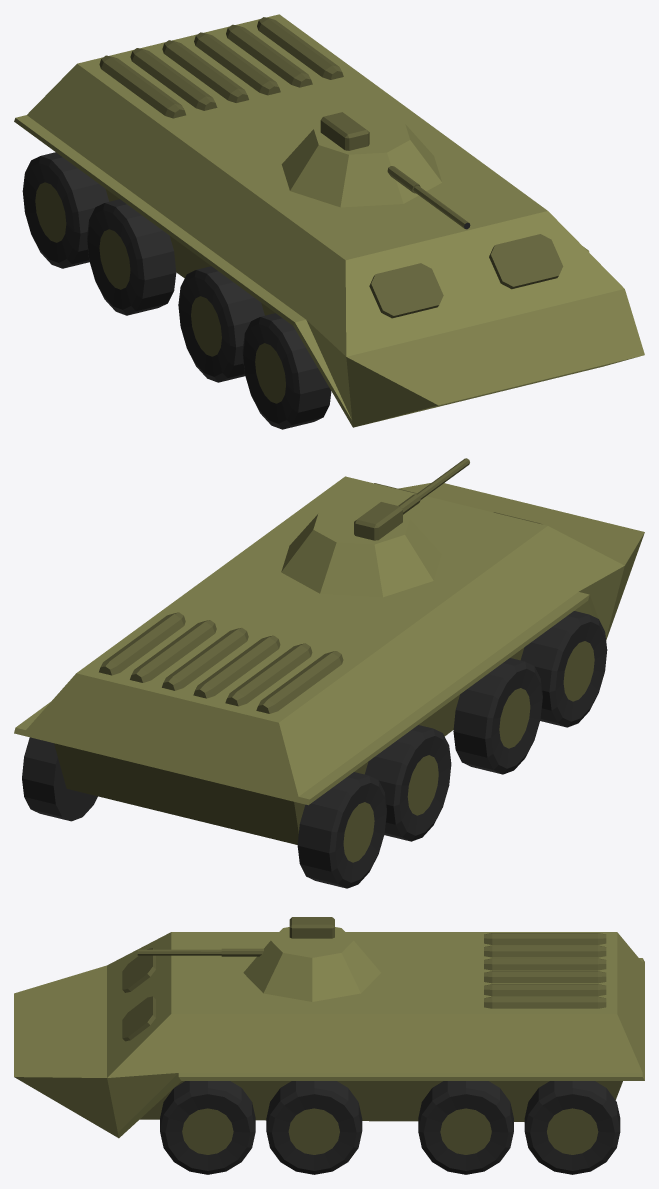
The model's file is IFV_Wheels_01.fbx.
3 views of the same model, one above another, from view 1: azimuth 30°, elevation 25°; view 2: azimuth 150°, elevation 25°; view 3: azimuth 270°, elevation 25° (orthographic). The views are drawn at different scales.
Parts seen in each view (by area): view 1: IFV_Wheels_01, IFV_Wheels_01_Turret, IFV_Wheels_01_Barrel; view 2: IFV_Wheels_01, IFV_Wheels_01_Turret, IFV_Wheels_01_Barrel; view 3: IFV_Wheels_01, IFV_Wheels_01_Turret, IFV_Wheels_01_Barrel.
Boxes of the visible parts, left/top/right/bottom form: IFV_Wheels_01: left=14, top=14, right=644, bottom=429; IFV_Wheels_01_Turret: left=281, top=112, right=442, bottom=207; IFV_Wheels_01_Barrel: left=387, top=166, right=470, bottom=229; IFV_Wheels_01: left=14, top=476, right=644, bottom=888; IFV_Wheels_01_Turret: left=281, top=502, right=441, bottom=597; IFV_Wheels_01_Barrel: left=398, top=458, right=469, bottom=514; IFV_Wheels_01: left=14, top=932, right=644, bottom=1174; IFV_Wheels_01_Turret: left=243, top=917, right=380, bottom=1001; IFV_Wheels_01_Barrel: left=137, top=948, right=263, bottom=956.
Bounding box in the file's own units: 5.65 × 3.85 × 11.92.
